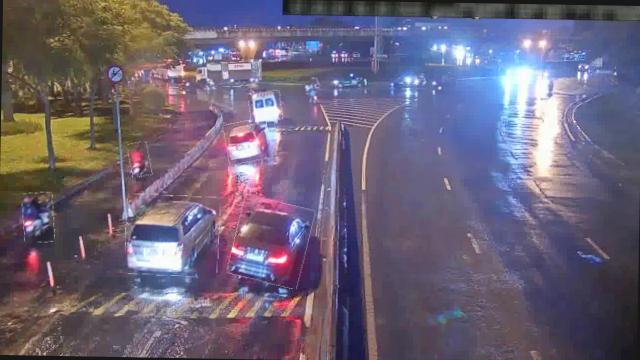Bike: (22, 192, 55, 242), (128, 142, 151, 176)
Bus: (248, 90, 282, 122)
Car: (124, 194, 220, 277), (230, 196, 312, 286), (224, 118, 272, 163)
Truck: (210, 62, 260, 87)
